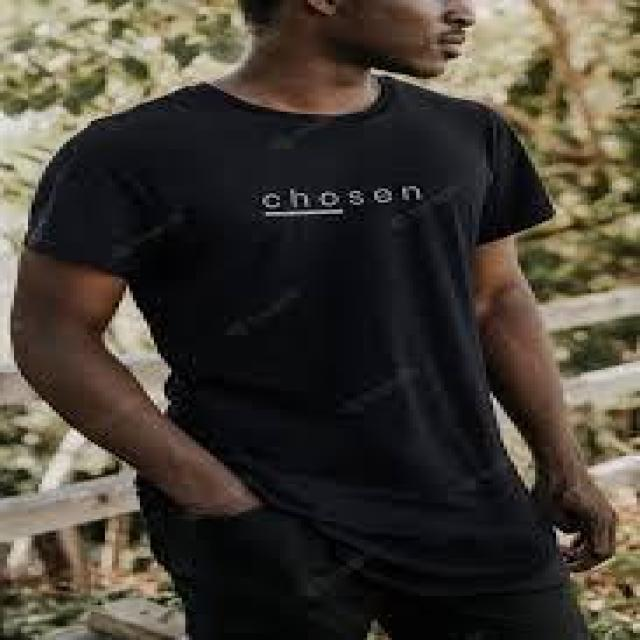Tshirt: (10, 76, 633, 541)
